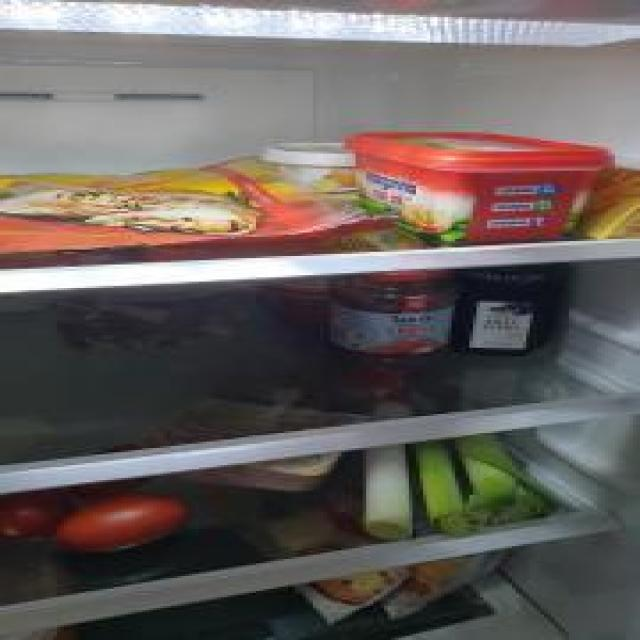butter: (347, 132, 617, 239)
leek: (366, 434, 537, 537)
marmelade: (331, 272, 455, 364), (457, 264, 574, 358)
tomato: (60, 492, 188, 554), (0, 486, 78, 548)
tortillas: (0, 153, 391, 254)
